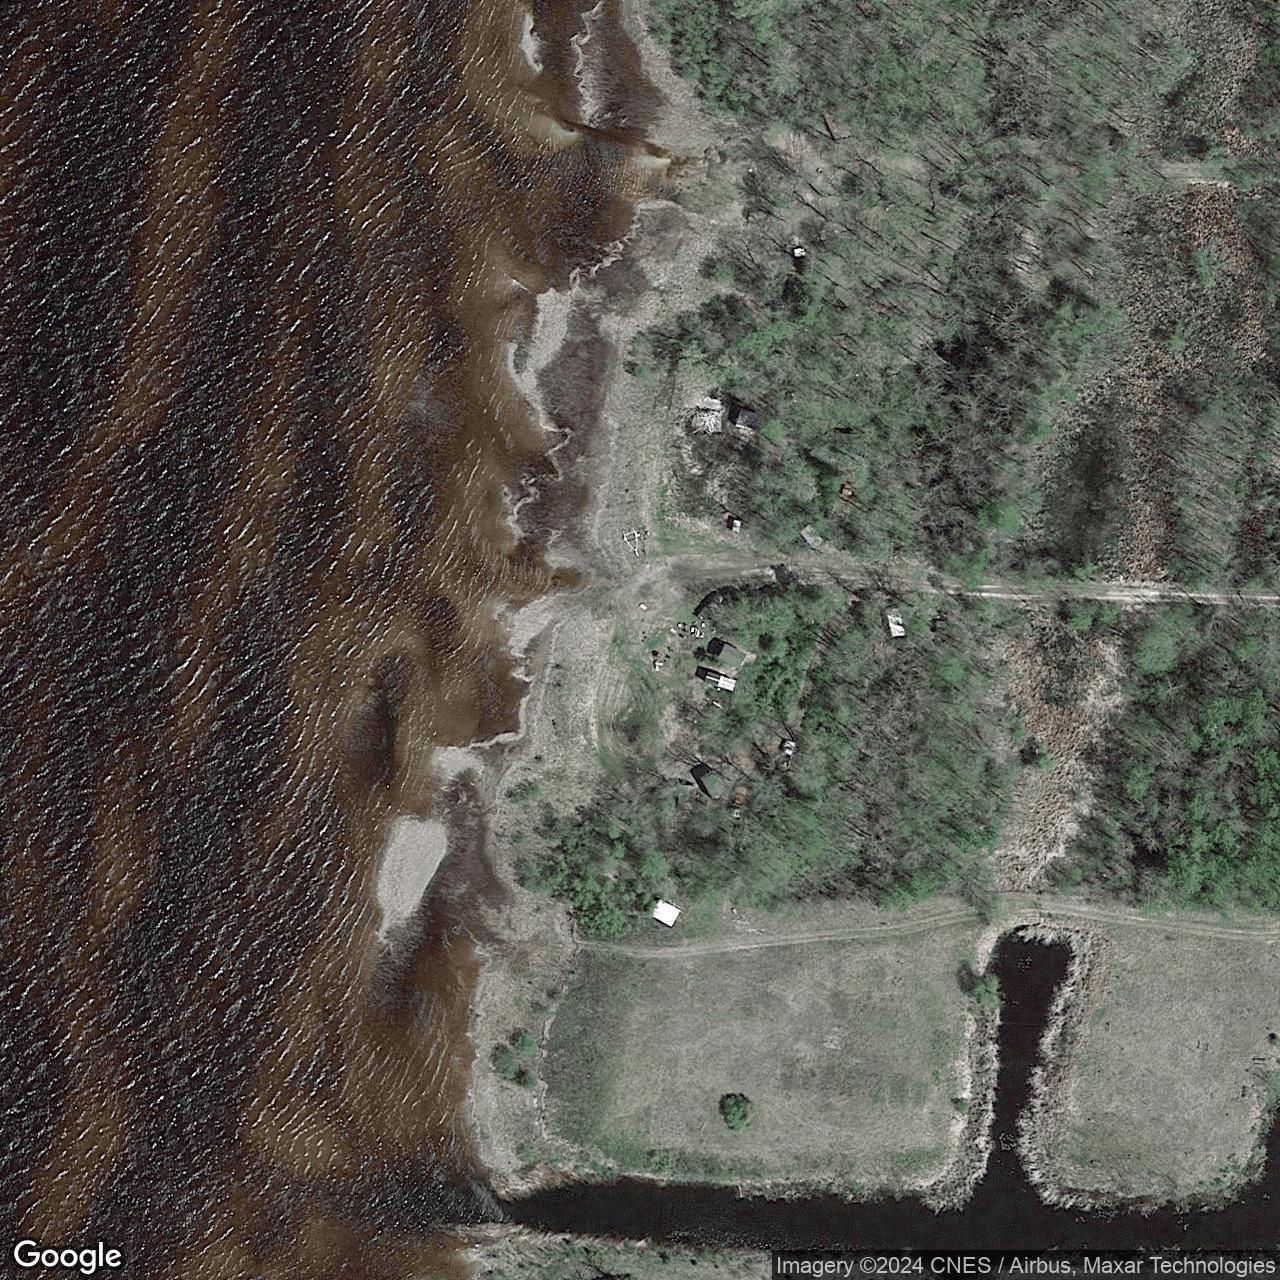Garage: (648, 898, 682, 928), (699, 769, 729, 799), (717, 642, 747, 670), (735, 406, 765, 433)
Trailer: (883, 607, 907, 636)
